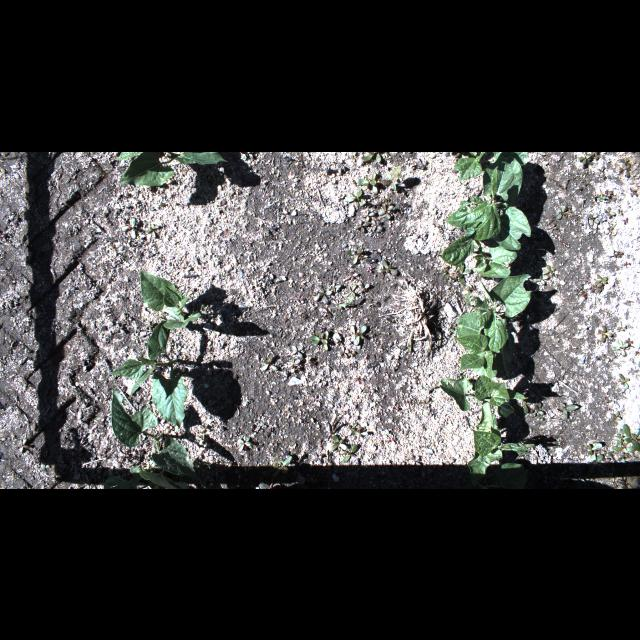crop: (103, 389, 197, 488), (109, 320, 188, 428), (444, 154, 532, 250), (456, 274, 532, 376), (438, 374, 530, 444), (140, 268, 202, 328), (113, 152, 227, 184), (467, 426, 535, 479), (440, 234, 516, 278), (451, 334, 503, 384), (454, 152, 528, 182)
weed: (610, 422, 640, 458), (268, 455, 292, 487), (382, 163, 402, 193), (513, 391, 539, 414), (448, 262, 472, 286), (555, 402, 579, 420), (610, 428, 632, 447), (338, 443, 358, 463), (259, 353, 279, 372), (378, 257, 398, 275), (346, 188, 366, 206), (121, 216, 137, 238), (190, 456, 216, 469), (611, 339, 629, 357), (352, 324, 368, 344), (611, 372, 631, 388), (588, 453, 604, 473), (347, 248, 369, 262), (349, 426, 368, 442), (236, 434, 252, 452), (378, 202, 394, 220), (529, 400, 545, 418), (318, 284, 332, 304), (309, 332, 329, 346), (590, 441, 602, 464), (354, 174, 376, 186), (144, 222, 160, 238), (330, 435, 346, 451), (616, 161, 632, 177), (597, 326, 613, 342), (148, 198, 166, 212), (532, 271, 550, 285), (16, 436, 29, 454), (290, 343, 304, 359), (287, 358, 301, 374), (343, 282, 357, 298), (353, 218, 369, 232), (540, 262, 556, 276), (593, 272, 609, 286), (587, 212, 601, 226), (338, 294, 354, 306), (420, 396, 432, 412), (594, 163, 606, 179), (40, 452, 50, 471), (370, 170, 378, 193), (193, 430, 204, 446), (370, 218, 382, 232), (362, 208, 376, 220), (577, 152, 591, 164), (556, 204, 568, 218), (603, 205, 617, 217), (590, 280, 604, 292), (608, 410, 622, 422), (586, 442, 598, 456), (361, 151, 377, 161), (347, 422, 358, 436), (207, 216, 219, 228), (348, 324, 356, 342), (358, 282, 370, 294), (409, 454, 421, 466), (603, 222, 615, 234), (198, 424, 212, 434), (310, 291, 324, 301), (345, 270, 359, 280), (327, 281, 341, 291), (616, 321, 628, 332), (616, 452, 628, 463), (240, 151, 256, 159), (322, 306, 332, 318), (339, 346, 349, 358), (322, 330, 328, 350), (563, 202, 573, 214), (546, 222, 558, 232), (362, 386, 376, 394), (628, 186, 638, 197), (624, 336, 634, 346), (608, 446, 618, 456), (600, 456, 610, 466), (462, 286, 472, 296), (292, 294, 304, 302), (412, 372, 420, 384), (588, 151, 600, 159), (610, 477, 618, 488), (200, 304, 208, 314), (354, 376, 364, 384), (365, 392, 373, 402), (424, 385, 434, 393), (376, 196, 386, 204), (375, 151, 383, 161), (618, 156, 628, 164), (614, 249, 624, 257), (580, 289, 588, 299), (406, 340, 412, 352), (604, 190, 614, 197), (383, 198, 391, 206), (440, 267, 448, 275), (598, 195, 606, 201), (623, 216, 629, 224), (622, 260, 630, 266), (449, 328, 456, 334), (366, 266, 372, 272), (446, 274, 452, 280), (274, 278, 282, 282), (536, 418, 544, 420)
